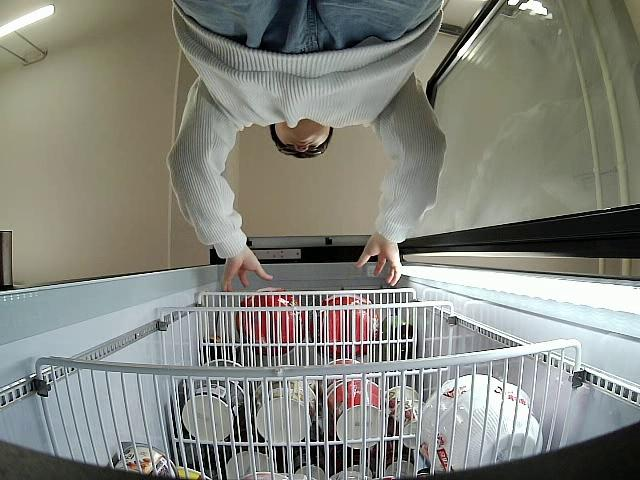00_hand: (356, 233, 401, 288), (224, 251, 273, 295)
